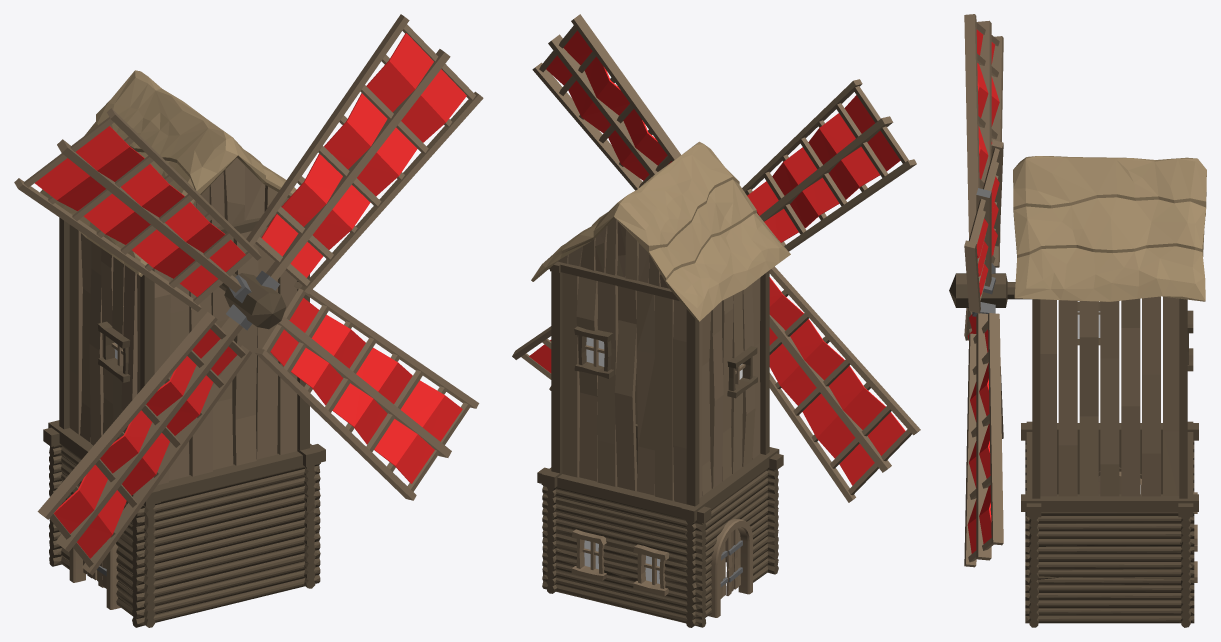
Rendered from windmill_a.FBX.
The picture shows the model from 3 angles, left to right: view 1: azimuth 30°, elevation 25°; view 2: azimuth 150°, elevation 25°; view 3: azimuth 270°, elevation 25°; orthographic projection. The views are drawn at different scales.
Visible parts, largest first — view 1: windmill_a; view 2: windmill_a; view 3: windmill_a.
Boxes of the visible parts, <box> form: windmill_a: <box>14,14,483,627</box>; windmill_a: <box>512,14,920,627</box>; windmill_a: <box>949,14,1206,627</box>.
Size of the model in its own units: 14.4 by 16.95 by 7.64.
